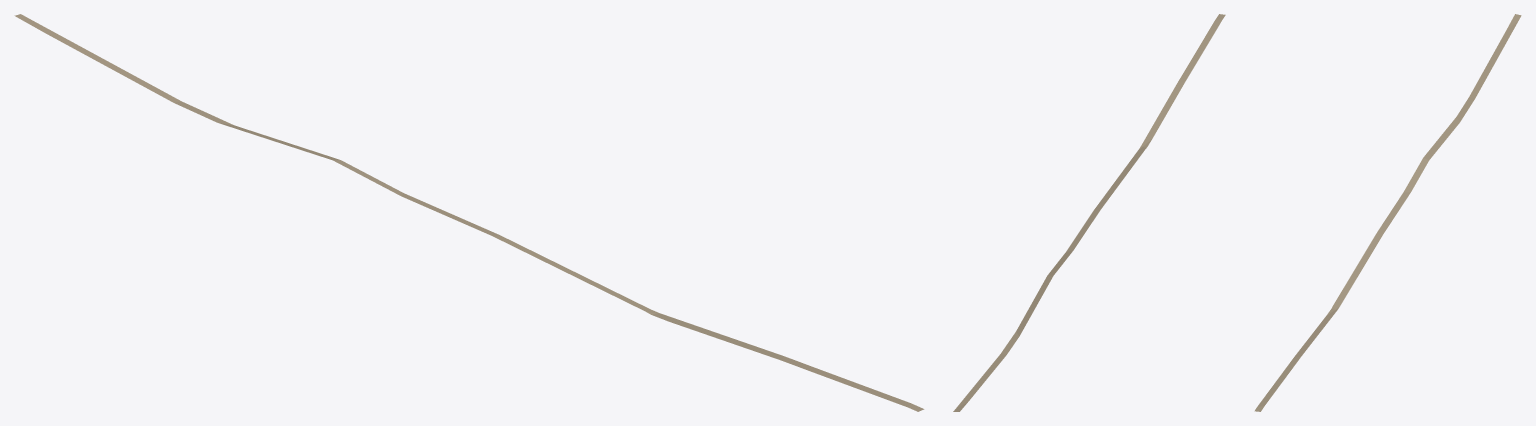
File: farm_-32_-31_track.glb
3 views of the same model, side by side, from view 1: azimuth 30°, elevation 25°; view 2: azimuth 150°, elevation 25°; view 3: azimuth 330°, elevation 25° (orthographic). The views are drawn at different scales.
Parts seen in each view (by area): view 1: geometry_0; view 2: geometry_0; view 3: geometry_0.
Boxes of the visible parts, x1,y1,x2,y2 form: geometry_0: (14,14,924,411); geometry_0: (953,14,1225,411); geometry_0: (1254,14,1521,411).
Size of the model in its own units: 119 by 9.57 by 455.
